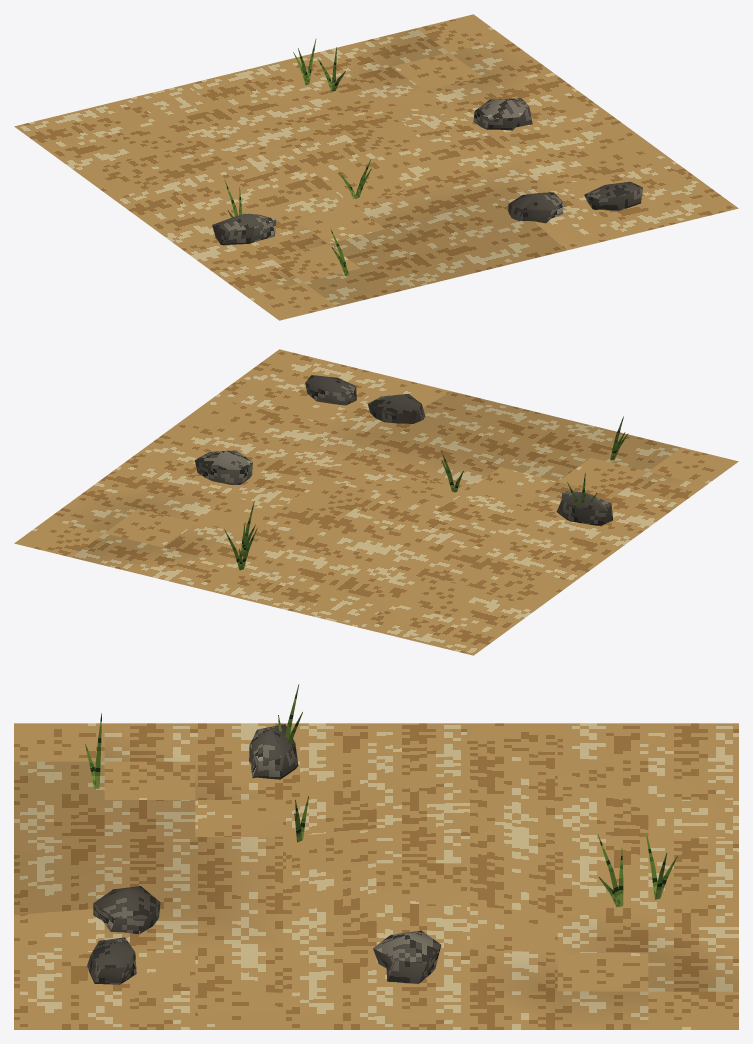
The model's file is lake.bed.glb.
3 renders of one model, top to bottom at view 1: azimuth 30°, elevation 25°; view 2: azimuth 150°, elevation 25°; view 3: azimuth 270°, elevation 25°, orthographic. The views are drawn at different scales.
Parts seen in each view (by area): view 1: kit_shell_bed, kit_rocks, kit_weeds; view 2: kit_shell_bed, kit_rocks, kit_weeds; view 3: kit_shell_bed, kit_rocks, kit_weeds.
Boxes of the visible parts, x1,y1,x2,y2 form: kit_shell_bed: [14, 14, 738, 320]; kit_rocks: [212, 98, 642, 245]; kit_weeds: [224, 39, 371, 275]; kit_shell_bed: [14, 349, 738, 655]; kit_rocks: [194, 375, 612, 525]; kit_weeds: [224, 416, 628, 570]; kit_shell_bed: [14, 723, 738, 1029]; kit_rocks: [86, 724, 441, 984]; kit_weeds: [85, 684, 677, 907].
Size of the model in its own units: 8 by 0.9612 by 8.
Materials: 4 (4 with a texture image).
